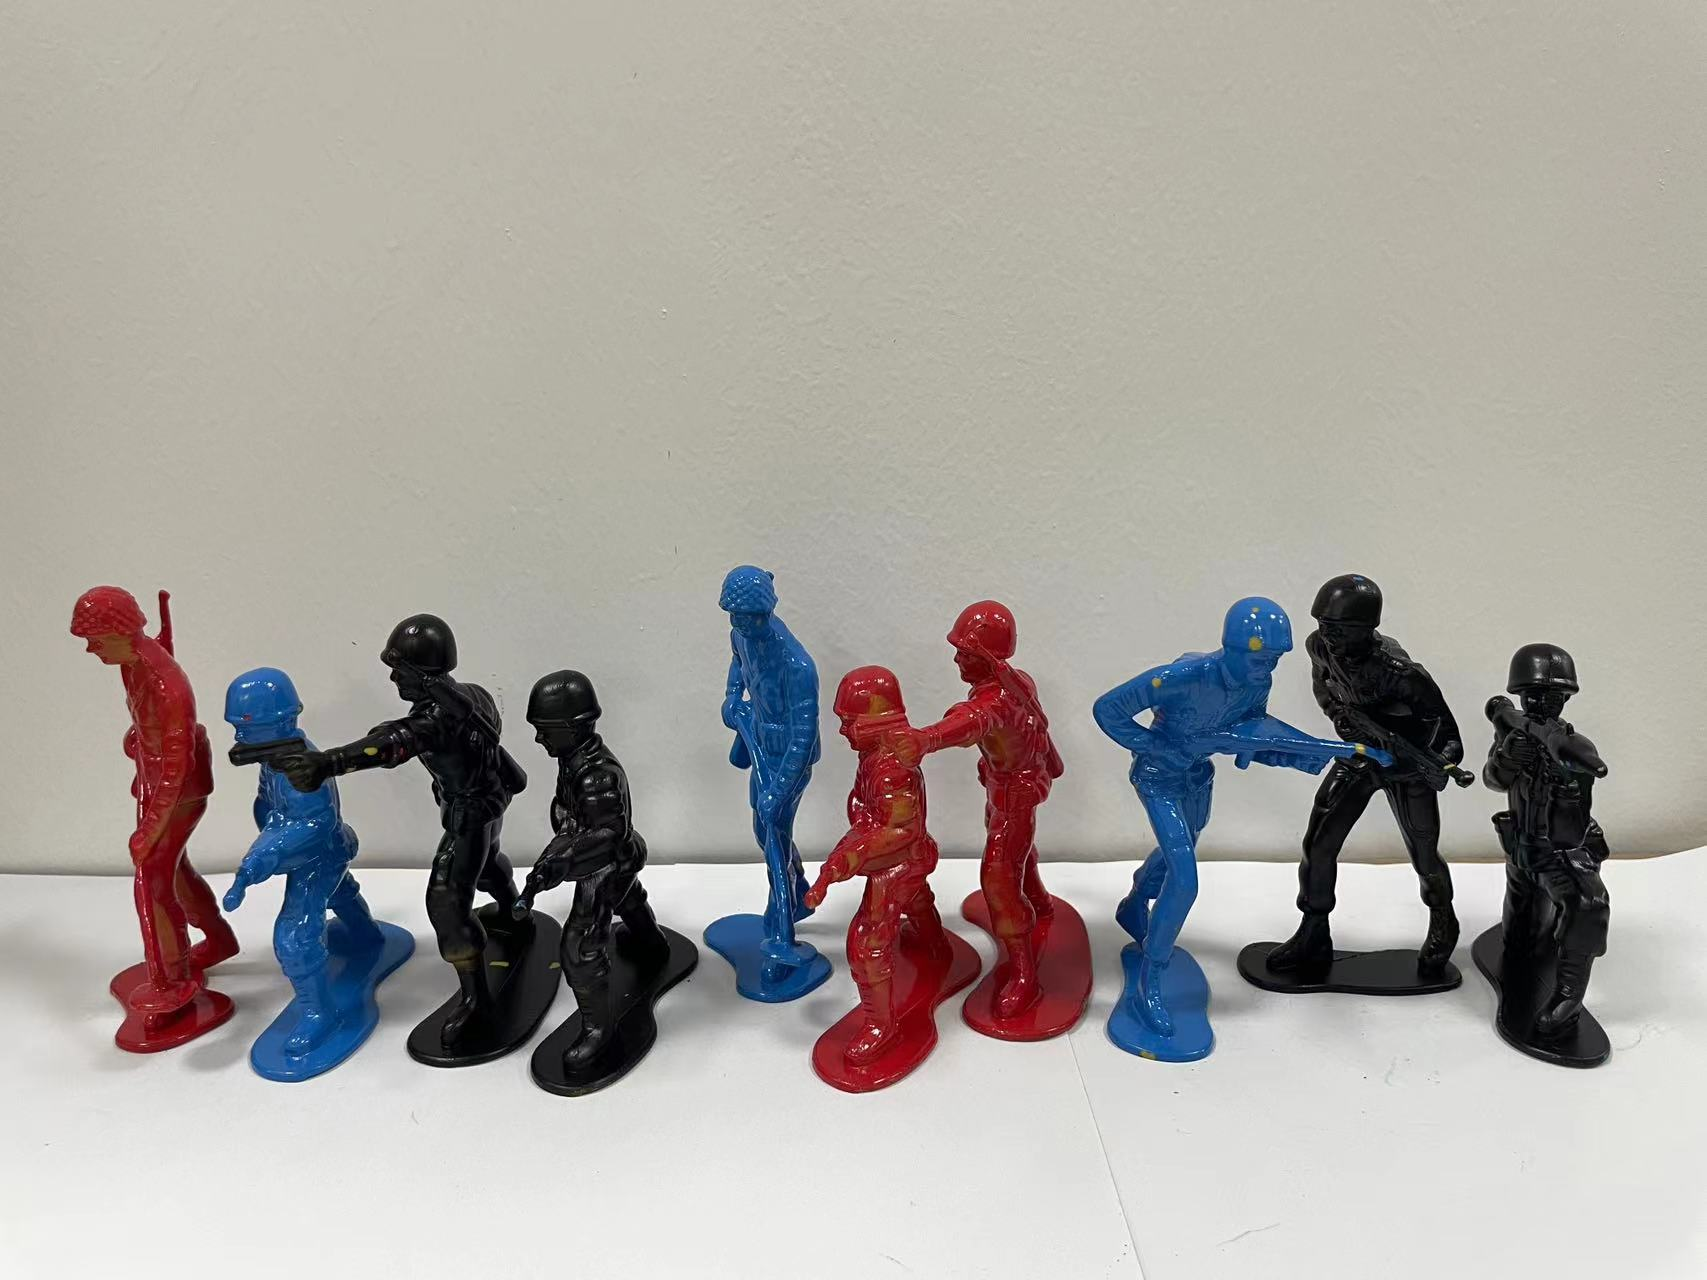black: (364, 573, 538, 1086), (515, 659, 704, 1103), (1290, 558, 1470, 1021), (1485, 618, 1641, 1121)
blue: (1098, 588, 1288, 1086), (215, 636, 380, 1086), (677, 549, 819, 1025)
red: (52, 567, 235, 1074), (925, 575, 1101, 1050), (810, 670, 956, 1098)
